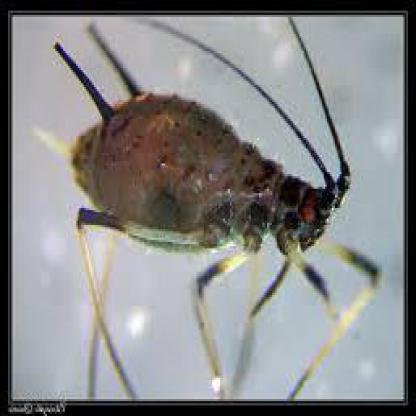uroleucon compositae: (30, 32, 351, 395)
